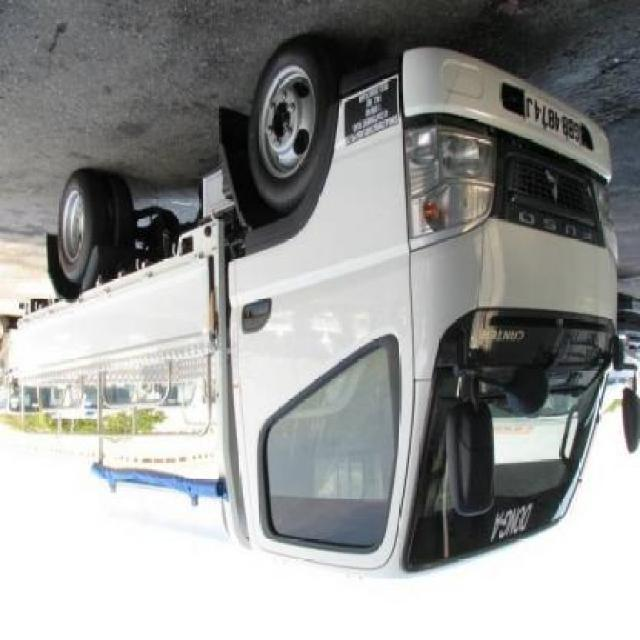truck: (12, 36, 640, 582)
